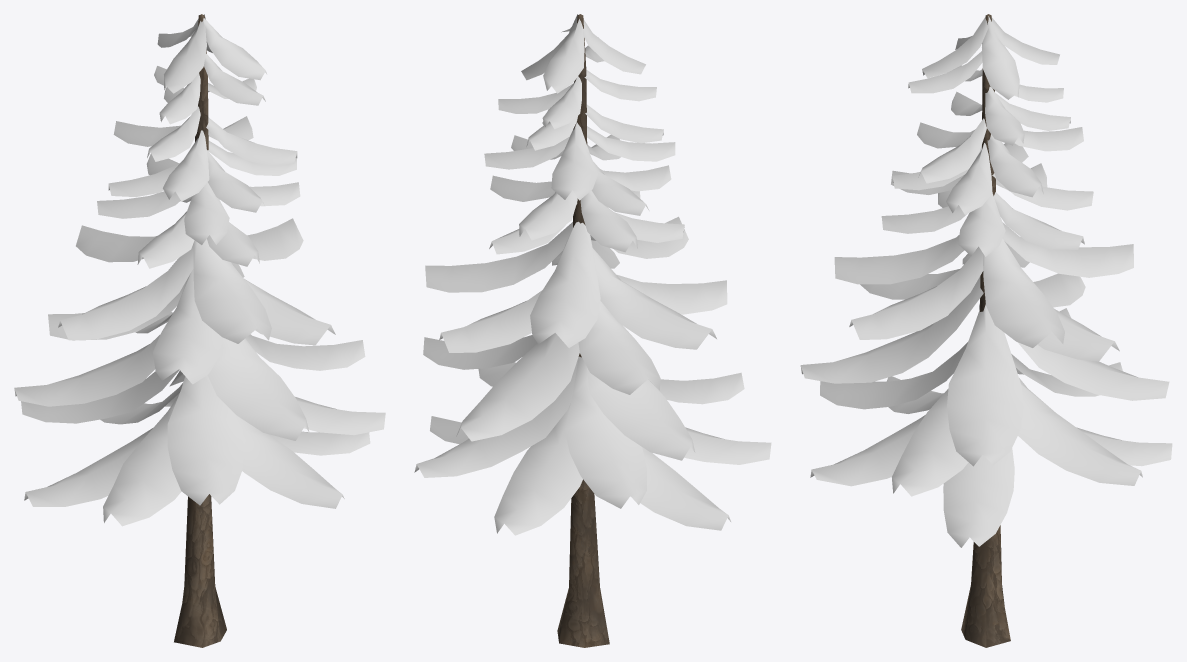
The model's file is tree02_main_LOD1.fbx.
3 renders of one model, left to right at view 1: azimuth 30°, elevation 25°; view 2: azimuth 150°, elevation 25°; view 3: azimuth 270°, elevation 25°, orthographic.
Parts seen in each view (by area): view 1: Cylinder.013; view 2: Cylinder.013; view 3: Cylinder.013.
Boxes of the visible parts, bbox=[...] form: Cylinder.013: bbox=[14, 14, 385, 647]; Cylinder.013: bbox=[414, 14, 771, 647]; Cylinder.013: bbox=[800, 14, 1172, 647].
Bounding box in the file's own units: 359 × 665 × 360.
